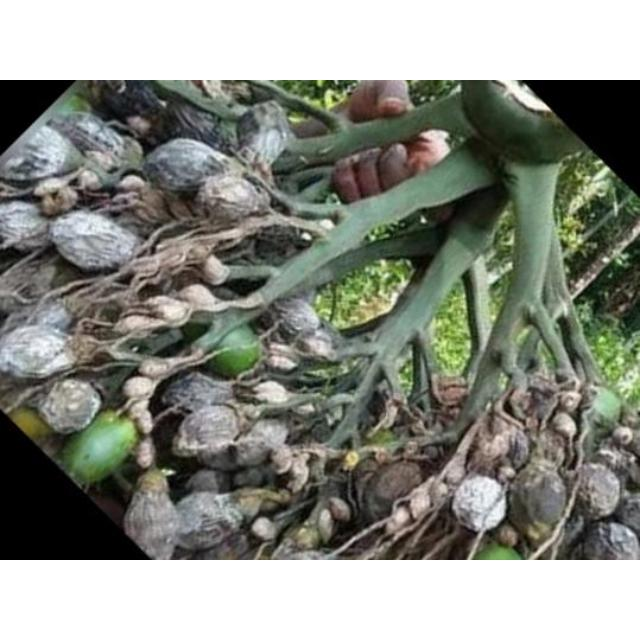damaged: (124, 474, 184, 560), (140, 138, 232, 194), (2, 122, 82, 184), (356, 459, 424, 527), (57, 211, 141, 265), (508, 465, 568, 539), (51, 112, 130, 166), (0, 324, 76, 380), (172, 492, 242, 552), (171, 404, 243, 461), (36, 377, 102, 433), (236, 102, 292, 168), (159, 100, 229, 150), (199, 173, 267, 224), (450, 475, 508, 533), (94, 80, 164, 126), (230, 418, 292, 468), (161, 372, 231, 416), (468, 422, 524, 474), (570, 464, 622, 518), (249, 221, 315, 263), (0, 199, 50, 253), (574, 522, 638, 560), (270, 296, 320, 340), (26, 297, 74, 337), (232, 486, 288, 520), (516, 386, 560, 428), (595, 443, 637, 485), (538, 430, 572, 470), (294, 329, 336, 361), (174, 284, 220, 312), (283, 522, 325, 552), (38, 185, 76, 218), (265, 343, 305, 371), (1, 282, 32, 316), (614, 497, 640, 537), (440, 454, 468, 490), (186, 468, 224, 494), (150, 296, 188, 322), (115, 314, 158, 336), (252, 380, 290, 404), (199, 255, 229, 285), (309, 417, 339, 445), (232, 467, 270, 489), (137, 357, 175, 379), (122, 376, 156, 400), (136, 470, 170, 494), (550, 412, 578, 440), (507, 388, 533, 418), (250, 516, 278, 542), (134, 437, 156, 469), (352, 456, 380, 479), (316, 508, 336, 540), (328, 498, 352, 524), (117, 174, 147, 194), (558, 391, 584, 413), (610, 427, 634, 448)
